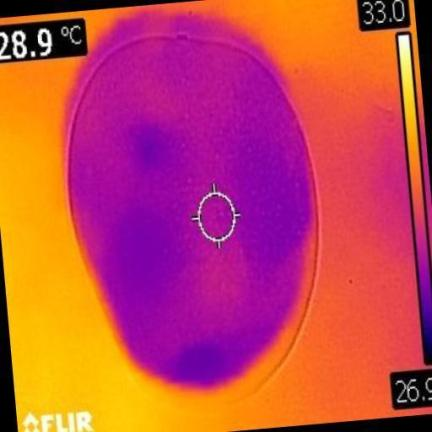mango: (68, 31, 317, 402)
